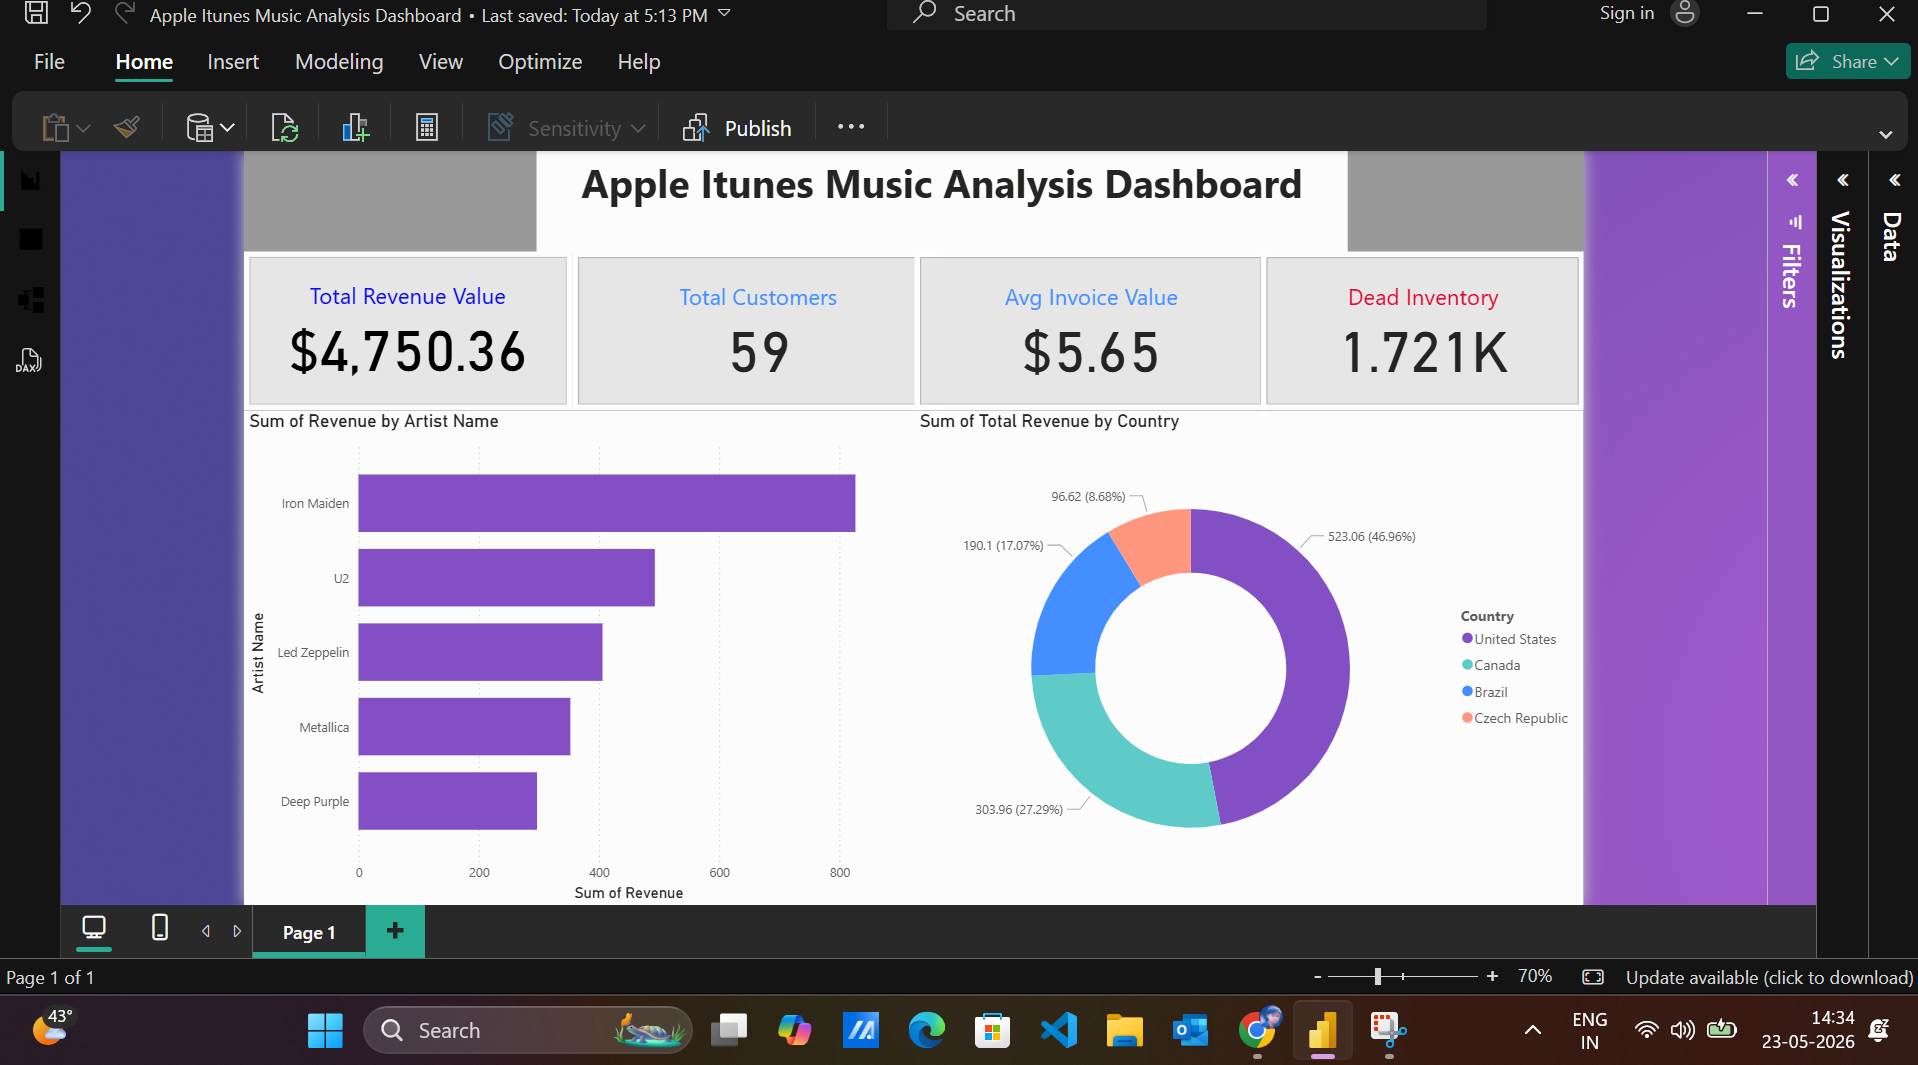

What the dashboard file says about the page in this screenshot:
{"tool":"powerbi","page":{"name":"Page 1","canvas":[1280,720],"ordinal":0},"visuals":[{"type":"cardVisual","fields":{"Data":["Format_Optimization.Total Revenue Value"]},"box":[0,96.4,313.7,151.2],"z":0},{"type":"cardVisual","fields":{"Data":["Format_Optimization.Total Customers"]},"box":[340.2,96.4,326.9,151.2],"z":1},{"type":"cardVisual","fields":{"Data":["Format_Optimization.Avg Invoice Value"]},"box":[640.6,96.4,336.4,151.2],"z":2},{"type":"cardVisual","fields":{"Data":["Format_Optimization.Dead Inventory"]},"box":[971.3,96.4,308,151.2],"z":3},{"type":"textbox","box":[279.7,0,774.8,75.6],"z":4},{"type":"clusteredBarChart","fields":{"Category":["High_Value_Artists.Artist Name"],"Y":["Sum(High_Value_Artists.Revenue)"]},"box":[20.8,275.9,483.8,408.2],"z":5},{"type":"donutChart","fields":{"Category":["Geographic Sales.Country"],"Y":["Sum(Geographic Sales.Total Revenue)"]},"box":[667.1,311.8,553.7,408.2],"z":6}]}

Visuals, with their boxes on the page's 1280x720 design canvas (x1, y1, x2, y2). These are canvas units, not pixel positions in the 1918x1065 screenshot, which may show the page scaled, cropped or inside an application window:
cardVisual - Format_Optimization.Total Revenue Value: bbox(0, 96, 314, 248)
cardVisual - Format_Optimization.Total Customers: bbox(340, 96, 667, 248)
cardVisual - Format_Optimization.Avg Invoice Value: bbox(641, 96, 977, 248)
cardVisual - Format_Optimization.Dead Inventory: bbox(971, 96, 1279, 248)
textbox: bbox(280, 0, 1054, 76)
clusteredBarChart - High_Value_Artists.Artist Name x Sum(High_Value_Artists.Revenue): bbox(21, 276, 505, 684)
donutChart - Geographic Sales.Country x Sum(Geographic Sales.Total Revenue): bbox(667, 312, 1221, 720)
